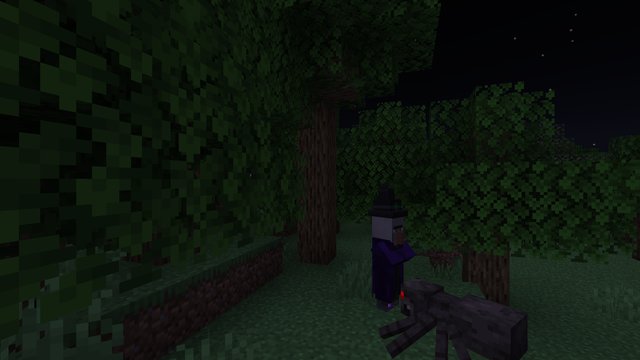araignees: (398, 269, 516, 356)
sorcieres: (371, 210, 403, 314)
